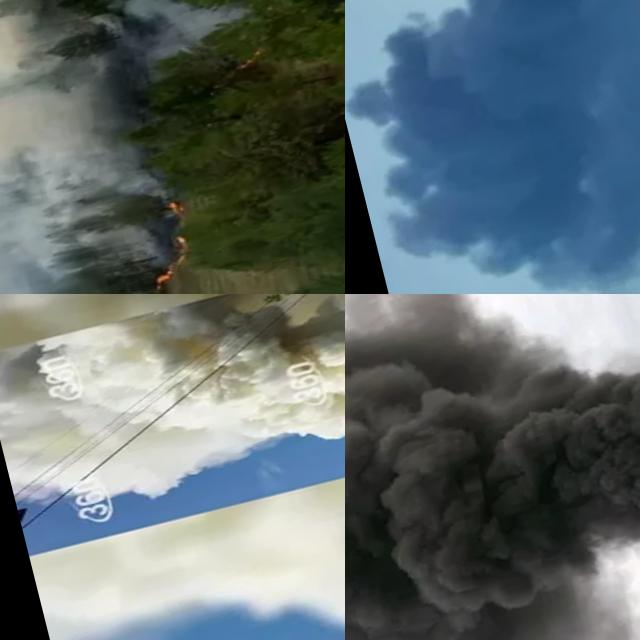smoke: (345, 294, 640, 640), (0, 0, 345, 294), (345, 0, 640, 294), (0, 294, 345, 529)
